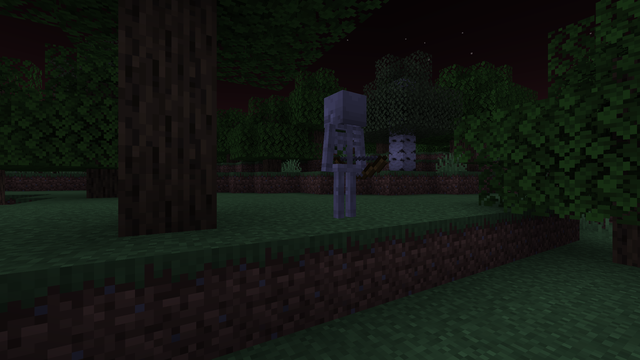squelettes: (320, 89, 370, 221)
